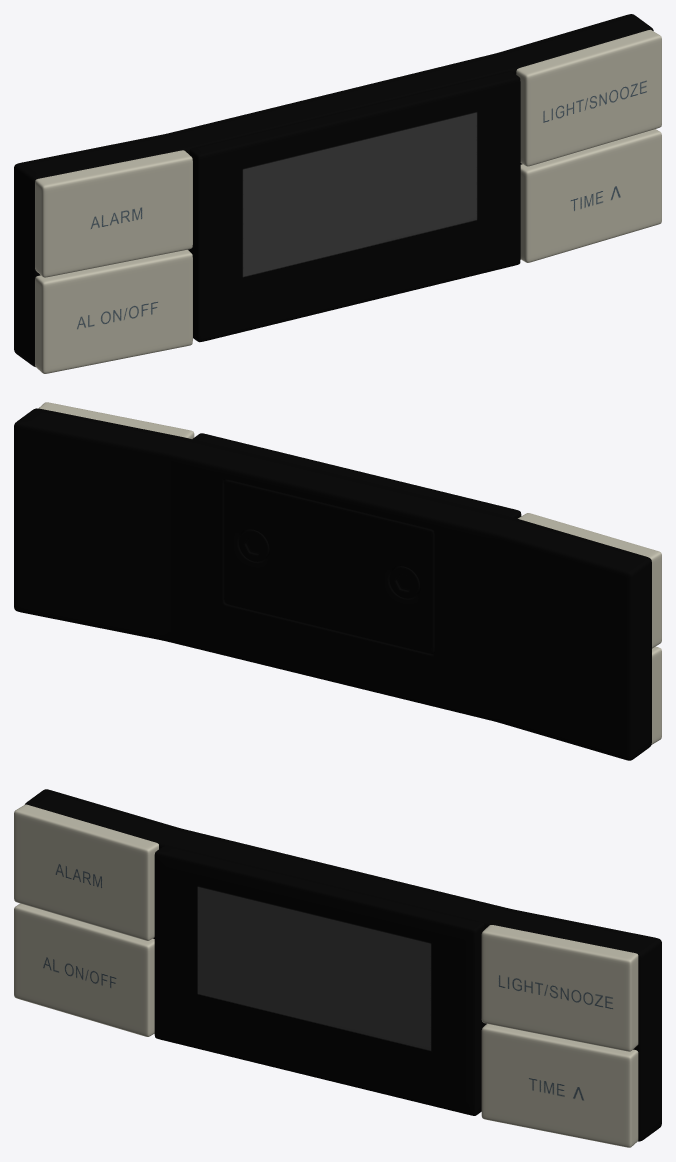
Rendered from Colock.FBX.
3 views of the same model, one above another, from view 1: azimuth 30°, elevation 25°; view 2: azimuth 150°, elevation 25°; view 3: azimuth 330°, elevation 25° (orthographic).
Visible parts, largest first — view 1: Obj3d66-517209-5-196, Obj3d66-517209-2-855, Obj3d66-517209-1-901; view 2: Obj3d66-517209-1-901, Obj3d66-517209-2-855, Obj3d66-517209-5-196, Obj3d66-517209-4-192; view 3: Obj3d66-517209-5-196, Obj3d66-517209-2-855, Obj3d66-517209-1-901.
Boxes of the visible parts, x1,y1,x2,y2 form: Obj3d66-517209-5-196: (189, 71, 520, 342); Obj3d66-517209-2-855: (35, 29, 661, 373); Obj3d66-517209-1-901: (14, 14, 653, 366); Obj3d66-517209-1-901: (14, 408, 651, 760); Obj3d66-517209-2-855: (38, 402, 661, 744); Obj3d66-517209-5-196: (192, 433, 521, 518); Obj3d66-517209-4-192: (239, 529, 419, 598); Obj3d66-517209-5-196: (154, 845, 484, 1115); Obj3d66-517209-2-855: (14, 804, 638, 1147); Obj3d66-517209-1-901: (25, 789, 661, 1141).
Size of the model in its own units: 5.54 by 1.62 by 0.5915.
